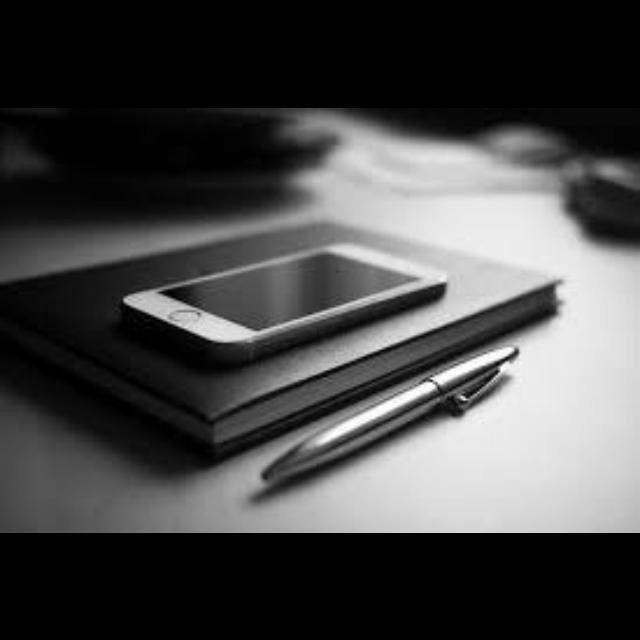fake: (90, 226, 468, 366)
